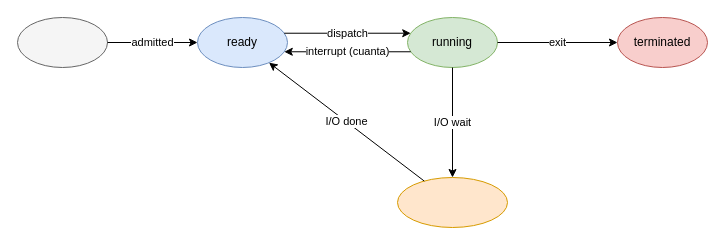
Some shapes in this 725 by 245 pixel diagram are drawn without their labels. The centre of each missing label's shape, as x and y in pixels:
new: [62,42]
waiting / blocked: [452,202]
